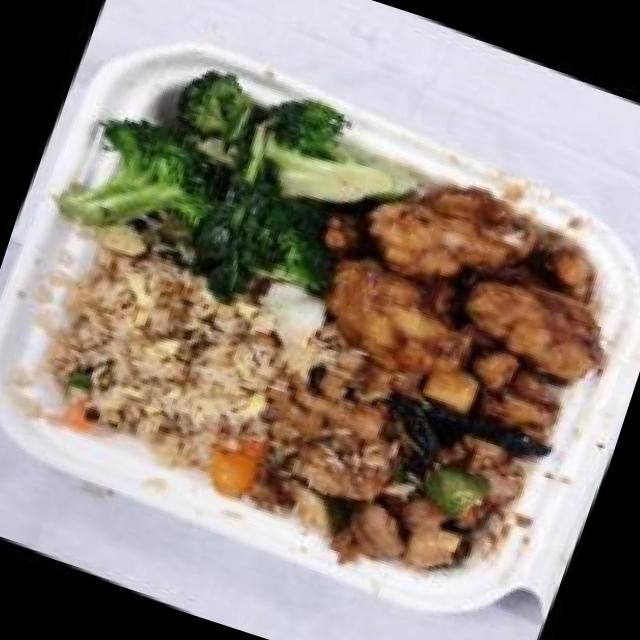Kung Pao Chicken: (187, 293, 584, 629)
Super Greens: (33, 14, 421, 364)
The Original Orange Chicken: (268, 127, 640, 485)
White Steamed Rice: (0, 199, 355, 515)
